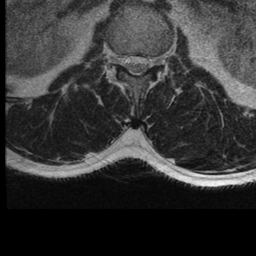CCS_normal: (132, 43, 141, 84)
LFS_normal: (150, 47, 160, 73)
LLS_normal: (140, 46, 150, 78)
RFS_normal: (112, 44, 122, 73)
RLS_normal: (122, 46, 131, 77)
